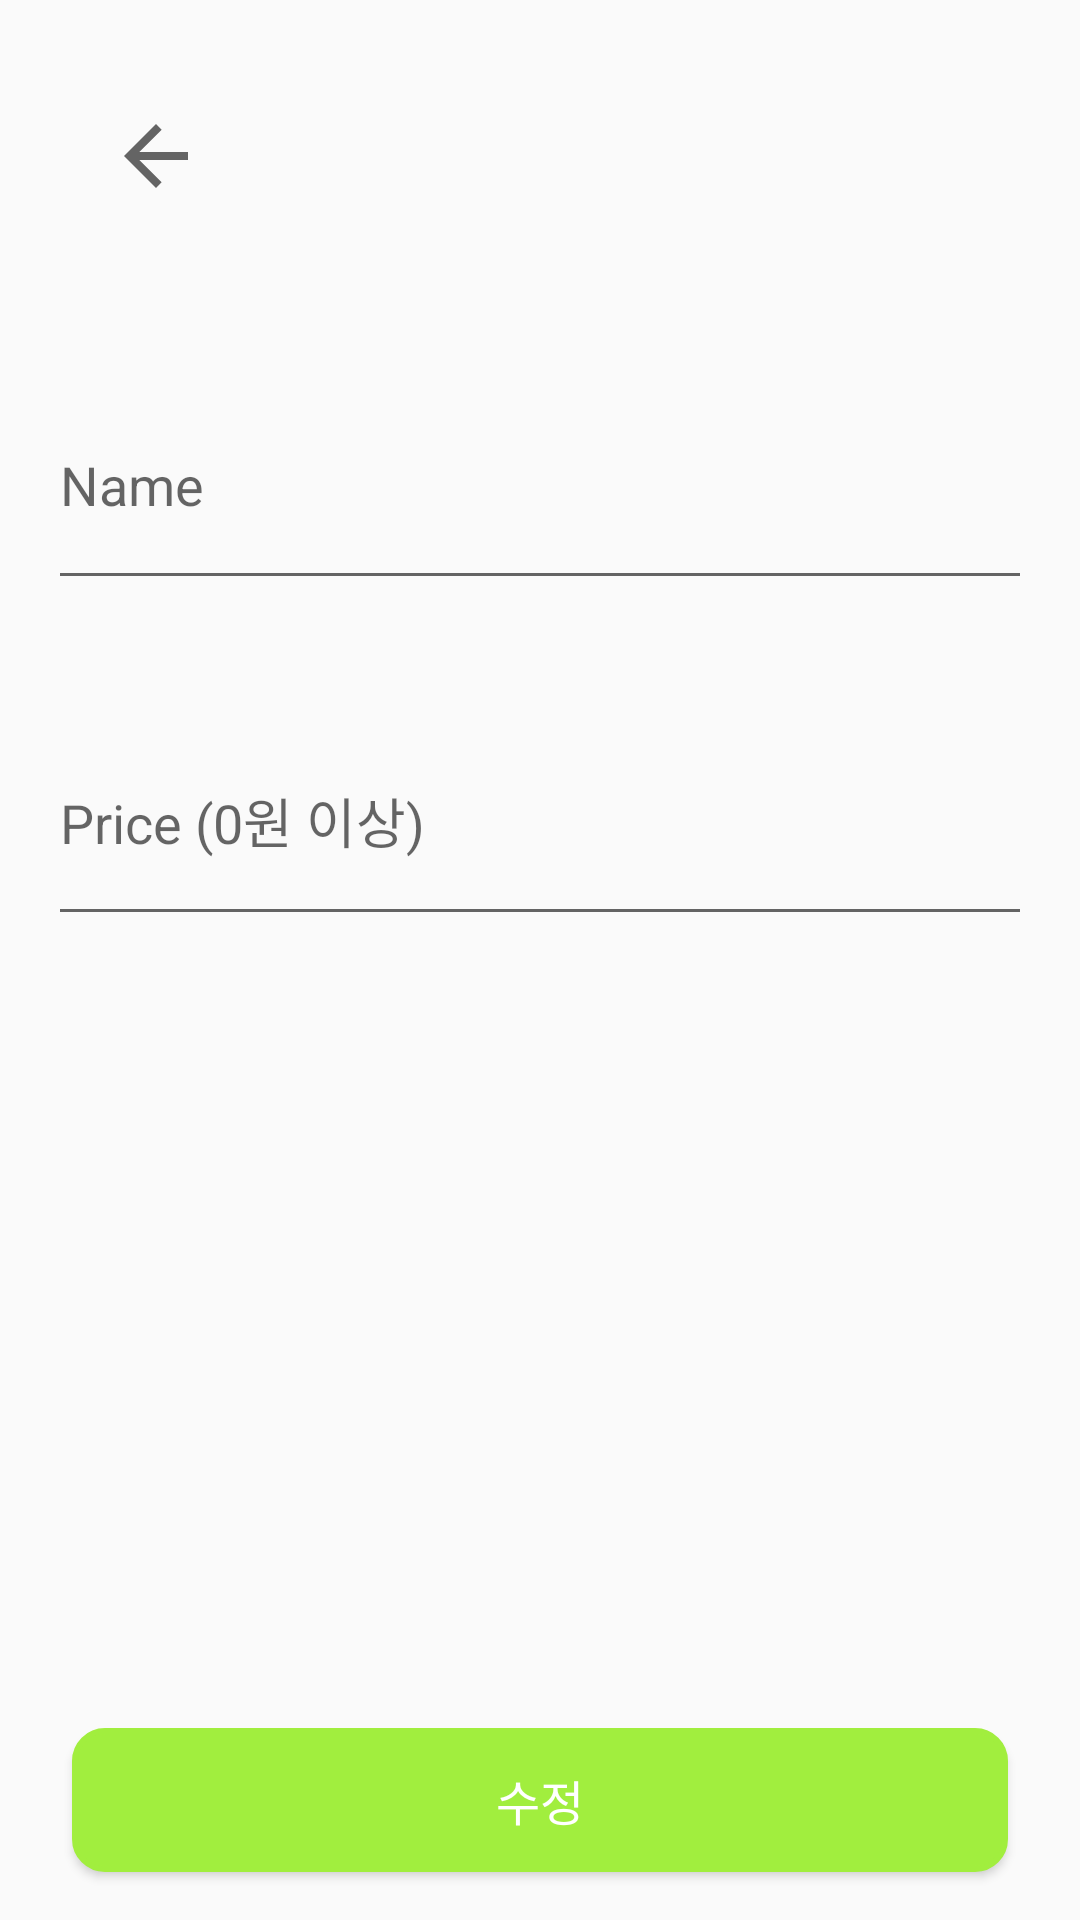

Icon click points for this 1080×1920 phone screenshot, format [x,y]:
backarrow: [156,156]
